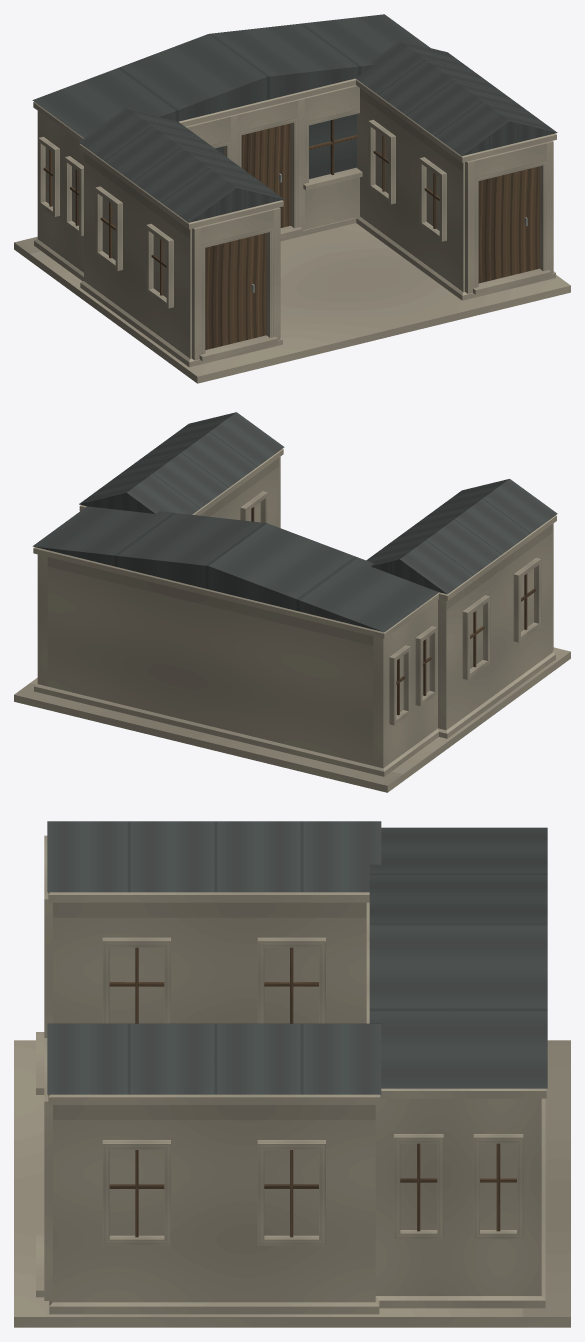
Rendered from kingston-nf.glb.
3 renders of one model, top to bottom at view 1: azimuth 30°, elevation 25°; view 2: azimuth 150°, elevation 25°; view 3: azimuth 270°, elevation 25°, orthographic. The views are drawn at different scales.
Parts seen in each view (by area): view 1: kingston-nf; view 2: kingston-nf; view 3: kingston-nf.
Part boxes in pixels (<box>): kingston-nf: <box>14,14,570,383</box>; kingston-nf: <box>14,412,570,792</box>; kingston-nf: <box>14,821,570,1327</box>.
Bounding box in the file's own units: 6.68 × 3 × 5.68.
1 material, 1 textured.
